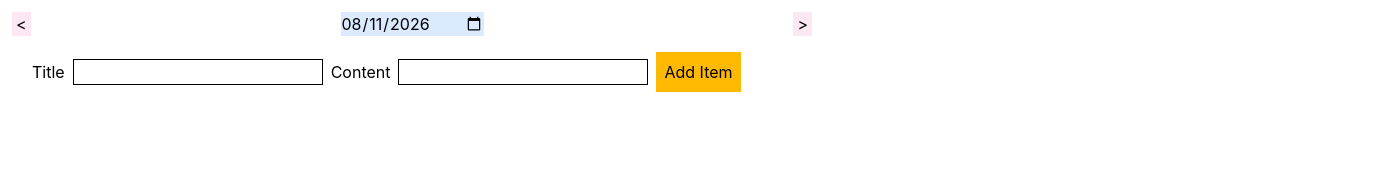
DateSelector › changes lists for different dates
# Add an item through Accordian's form
In the field labelled "Title": (198, 72) [73,59,323,85], type "Milk"
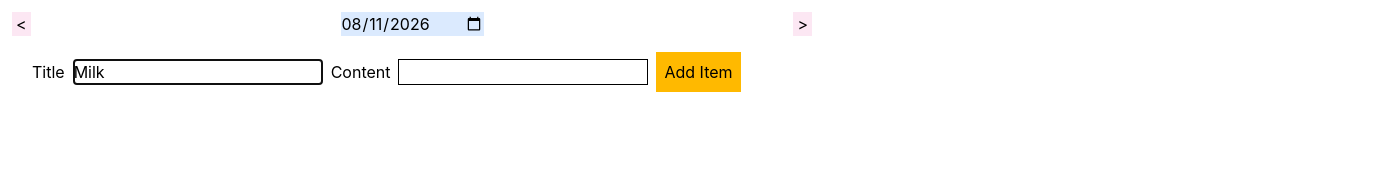
In the field labelled "Content": (524, 72) [398,59,648,85], type "Buy 2%"
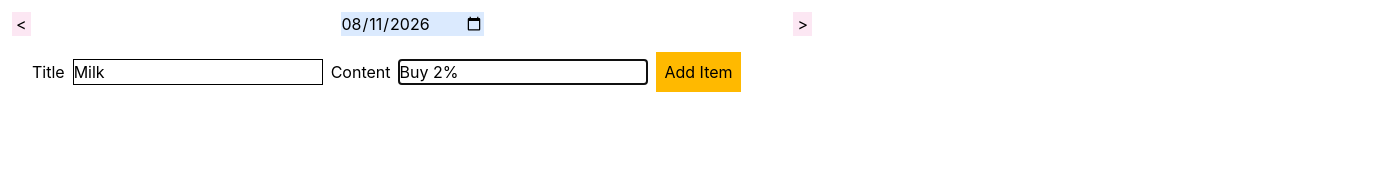
Click the button "Add Item": (699, 72) [656,52,741,92]
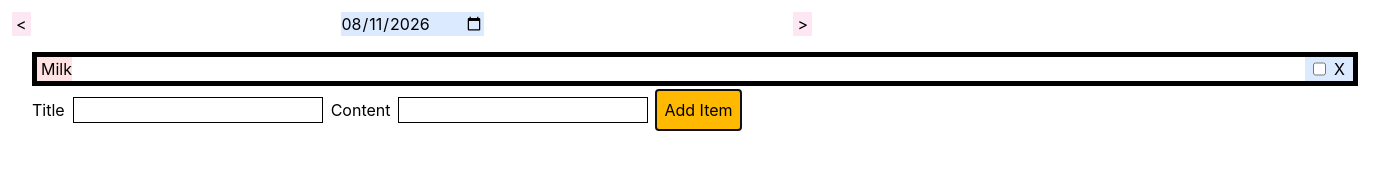
Check: the heading "Milk" is shown, box [41,57,72,81]
Click the button named "Increase-Date": (803, 24) [793,12,812,36]
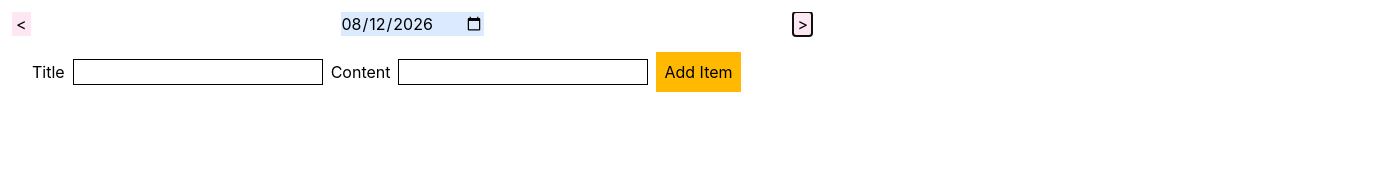
Check: the button "Milk" is gone
Click the button named "Decrease-Date": (21, 24) [12,12,31,36]
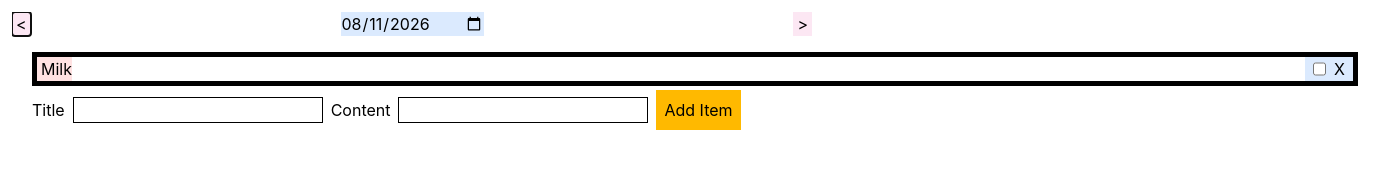
Check: the heading "Milk" is shown, box [41,57,72,81]
